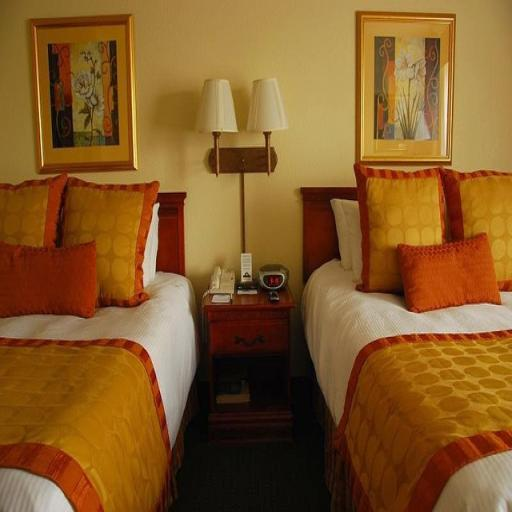bed: (281, 143, 512, 512), (0, 147, 199, 512)
